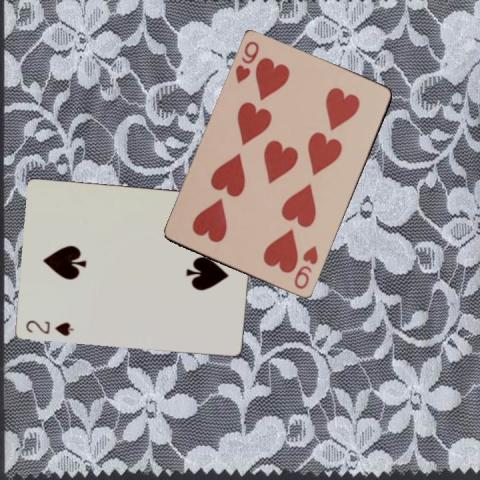2s: (22, 316, 74, 336)
9h: (291, 243, 320, 292), (232, 38, 261, 86)
